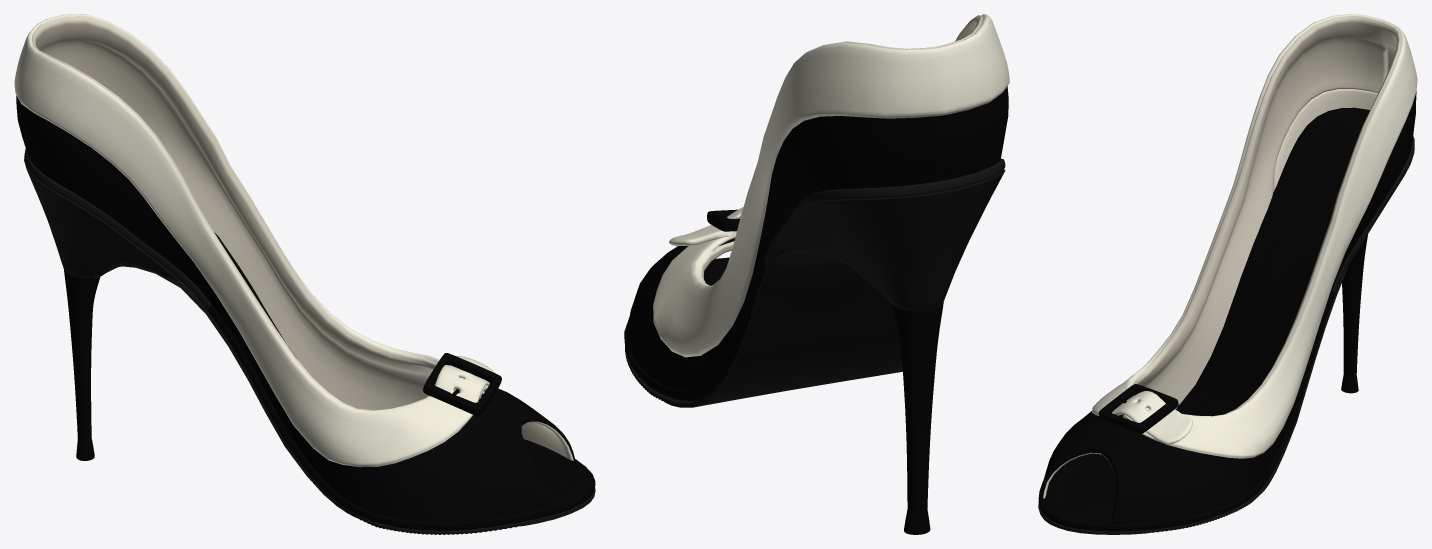
Rendered from espirit_heels.gltf.
3 views of the same model, side by side, from view 1: azimuth 30°, elevation 25°; view 2: azimuth 150°, elevation 25°; view 3: azimuth 270°, elevation 25° (orthographic). The views are drawn at different scales.
Visible parts, largest first — view 1: EspiritHeels; view 2: EspiritHeels; view 3: EspiritHeels.
Part boxes in pixels (<box>): EspiritHeels: <box>14,14,595,534</box>; EspiritHeels: <box>624,14,1009,534</box>; EspiritHeels: <box>1038,14,1417,534</box>.
Size of the model in its own units: 1.07 by 1.03 by 0.9928.
